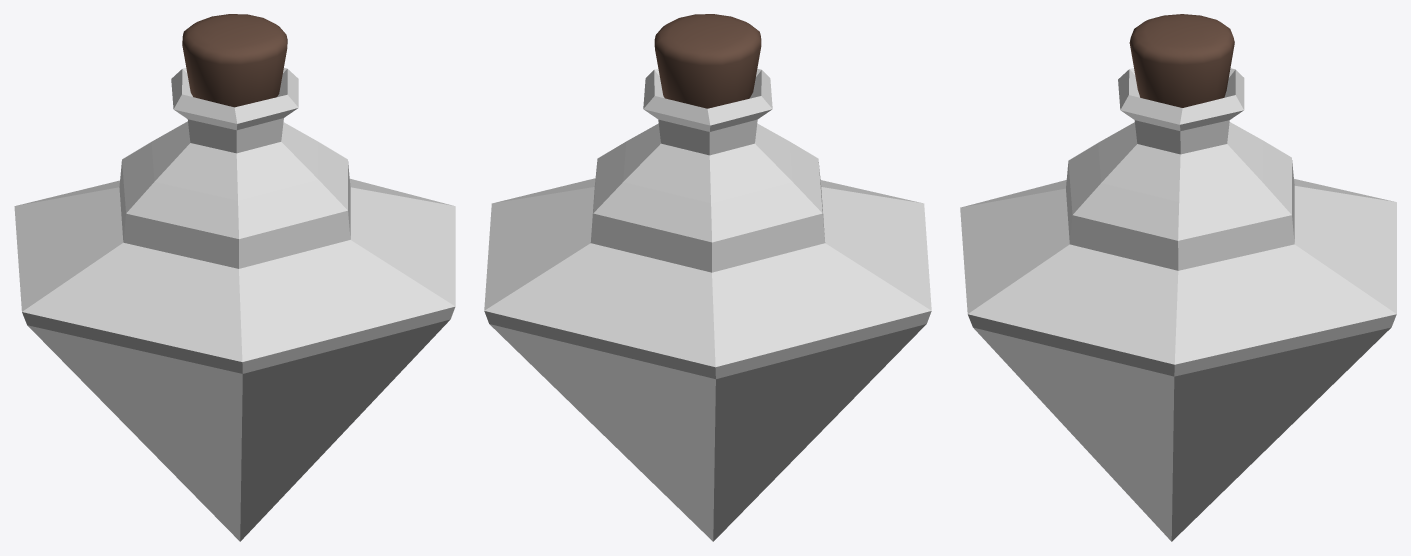
Rendered from SM_Potion11_Filled.fbx.
3 views of the same model, side by side, from view 1: azimuth 30°, elevation 25°; view 2: azimuth 150°, elevation 25°; view 3: azimuth 270°, elevation 25° (orthographic).
Parts seen in each view (by area): view 1: SM_Potion11_Filled; view 2: SM_Potion11_Filled; view 3: SM_Potion11_Filled.
Part boxes in pixels (<box>): SM_Potion11_Filled: <box>14,14,455,541</box>; SM_Potion11_Filled: <box>484,14,931,541</box>; SM_Potion11_Filled: <box>960,14,1396,541</box>.
Bounding box in the file's own units: 83.58 × 93.73 × 72.38.
